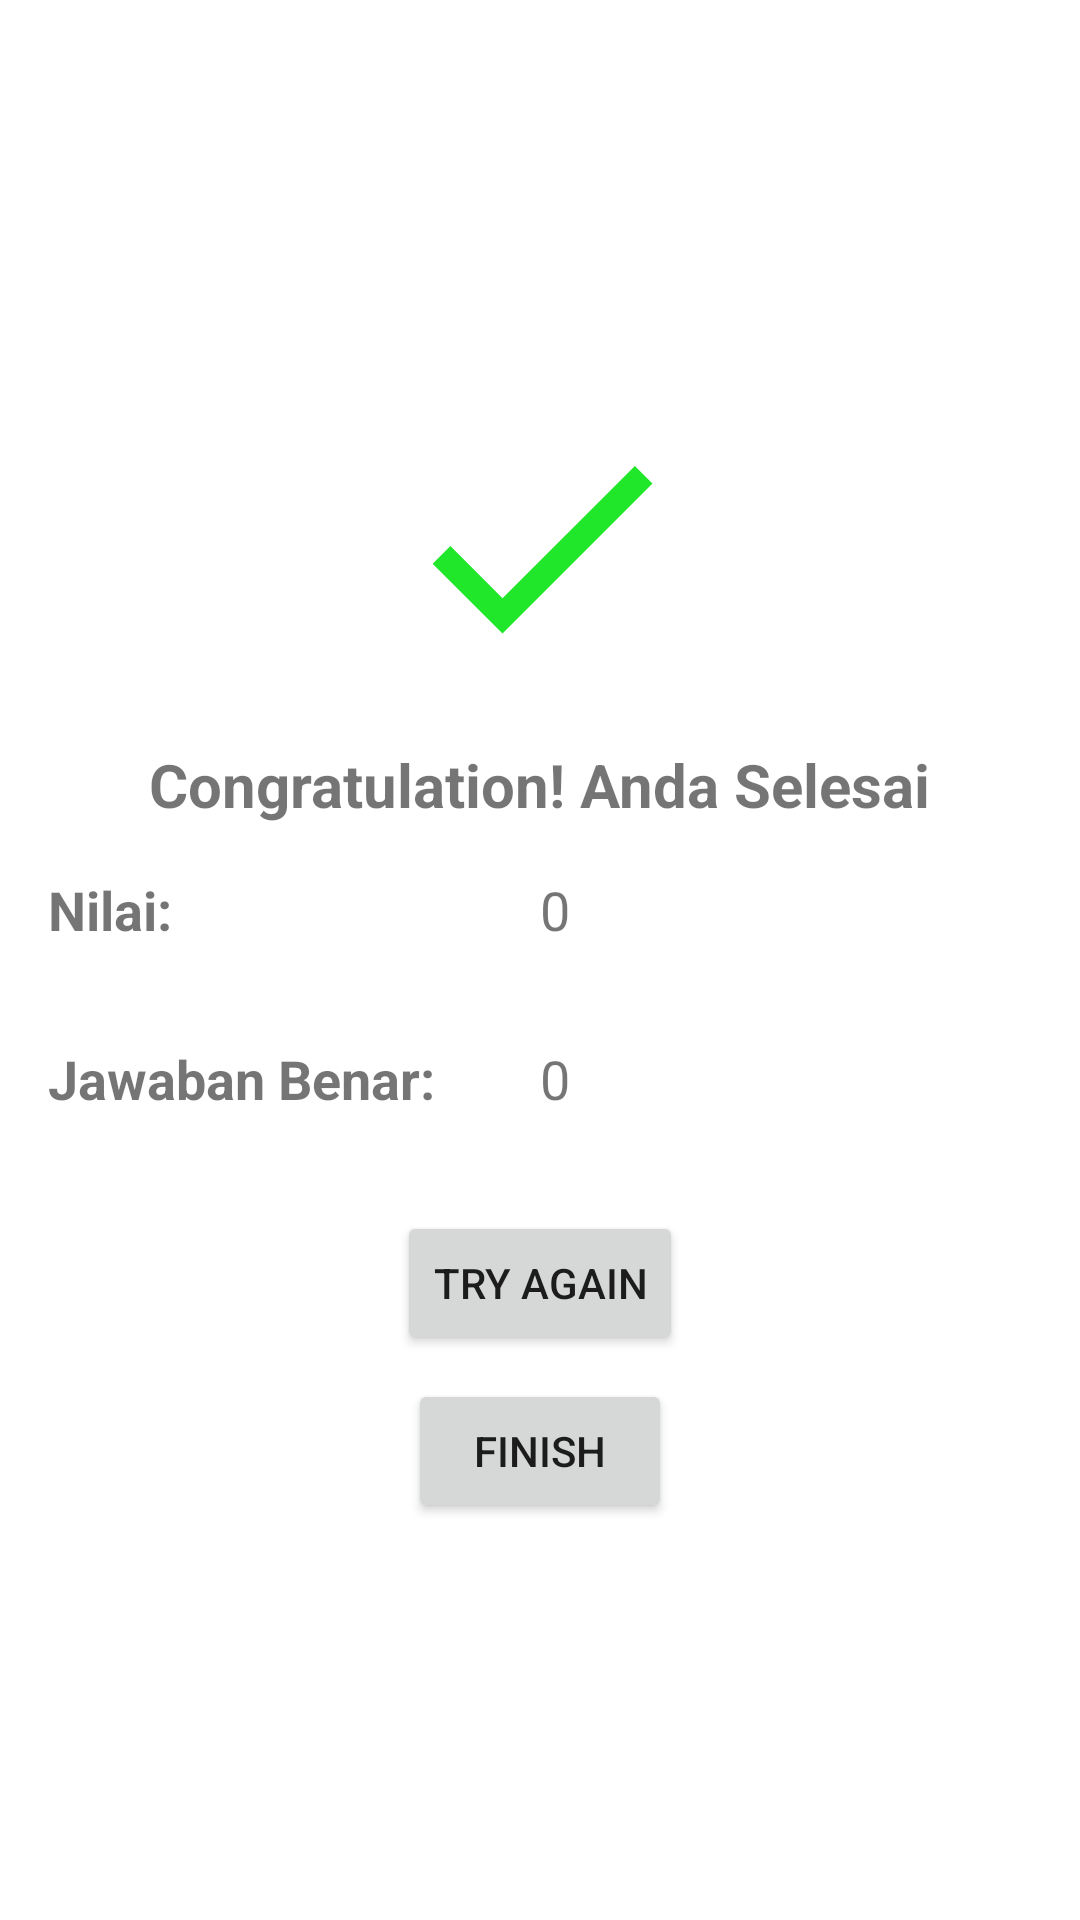

Where to tap for icons on this 1080 × 1920 app screen, as point (x, y):
check: point (542, 550)
